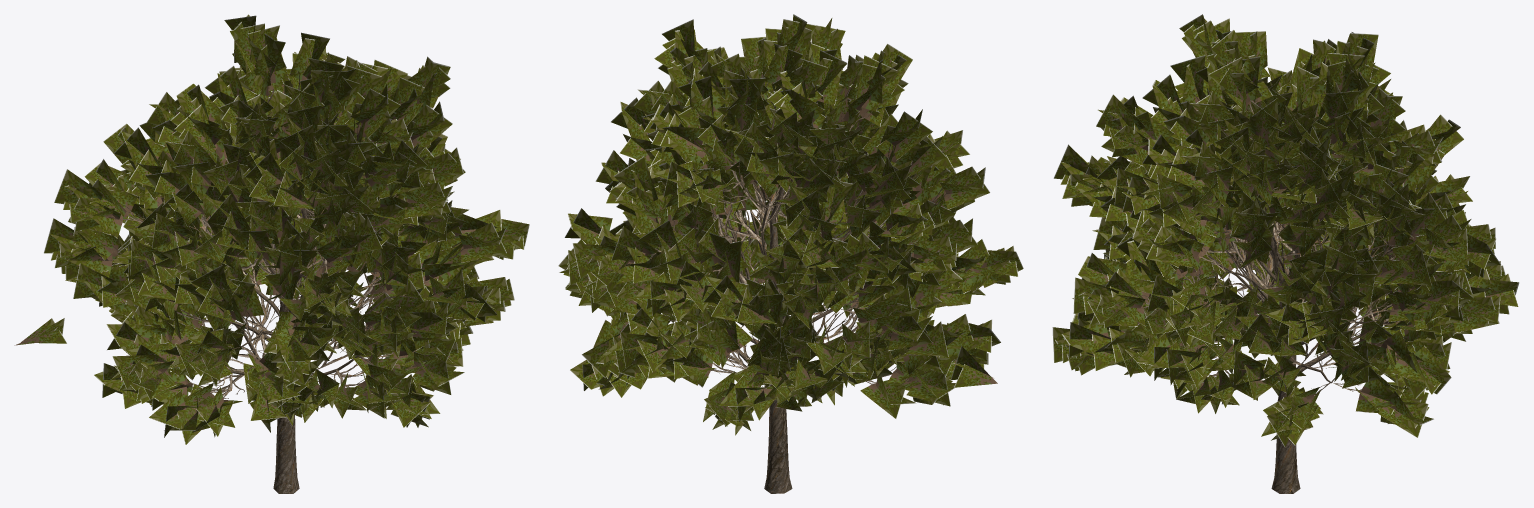
Rendered from tree_2.glb.
The picture shows the model from 3 angles, left to right: view 1: azimuth 30°, elevation 25°; view 2: azimuth 150°, elevation 25°; view 3: azimuth 270°, elevation 25°; orthographic projection.
Parts seen in each view (by area): view 1: prop; view 2: prop; view 3: prop.
Boxes of the visible parts, box(x1,y1,x2,y2) form: prop: box(14, 14, 529, 493); prop: box(558, 14, 1023, 493); prop: box(1052, 14, 1519, 493).
Size of the model in its own units: 8.63 by 8.5 by 7.86.
3 materials, 3 textured.
